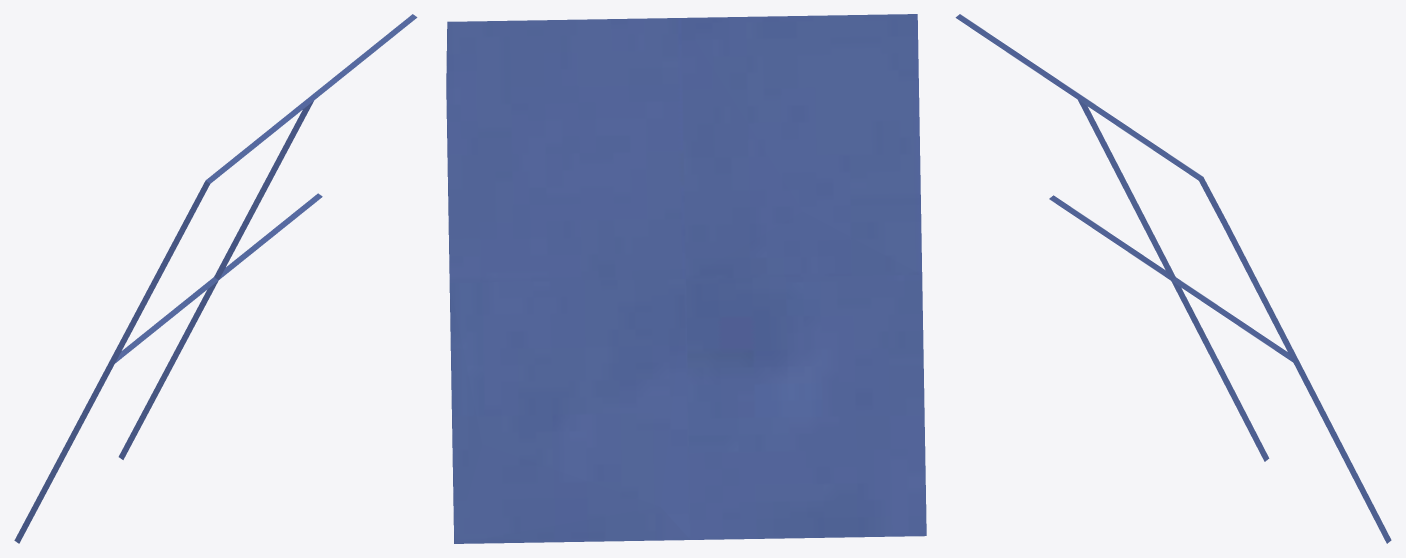
The picture shows the model from 3 angles, left to right: view 1: azimuth 30°, elevation 25°; view 2: azimuth 150°, elevation 25°; view 3: azimuth 270°, elevation 25°; orthographic projection. The views are drawn at different scales.
Bounding box in the file's own units: 19633 × 17737 × 16903.
Materials: 1 (1 with a texture image).
